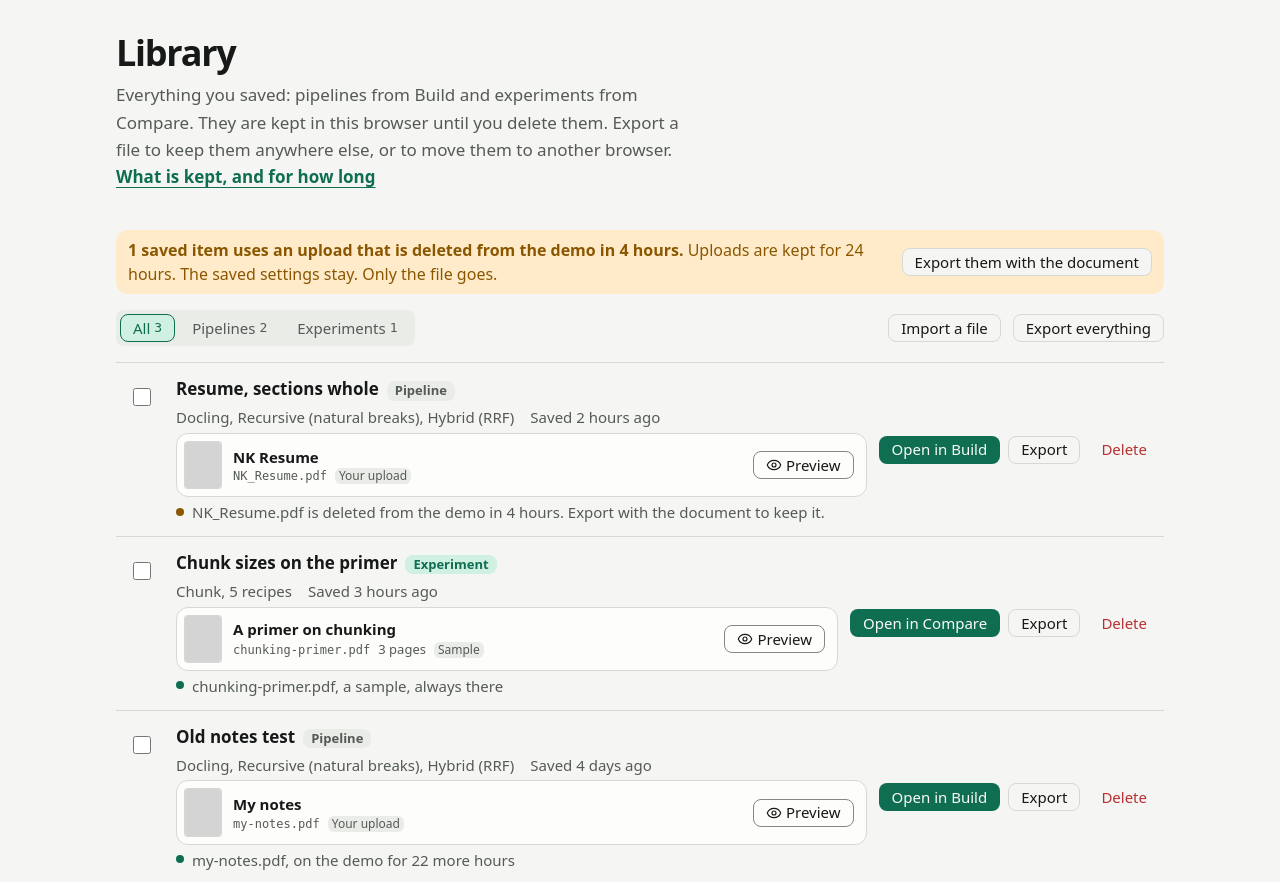
it: Library › says Without them when several documents can go in the file
expect the text "deleted from the demo in" is shown: met, box 192,502 -> 825,522
What coordinates should you click on to do the following:
click the button "Export everything"
I would click on:
 (1088, 328)
Its box is 1013,314 -> 1164,342.
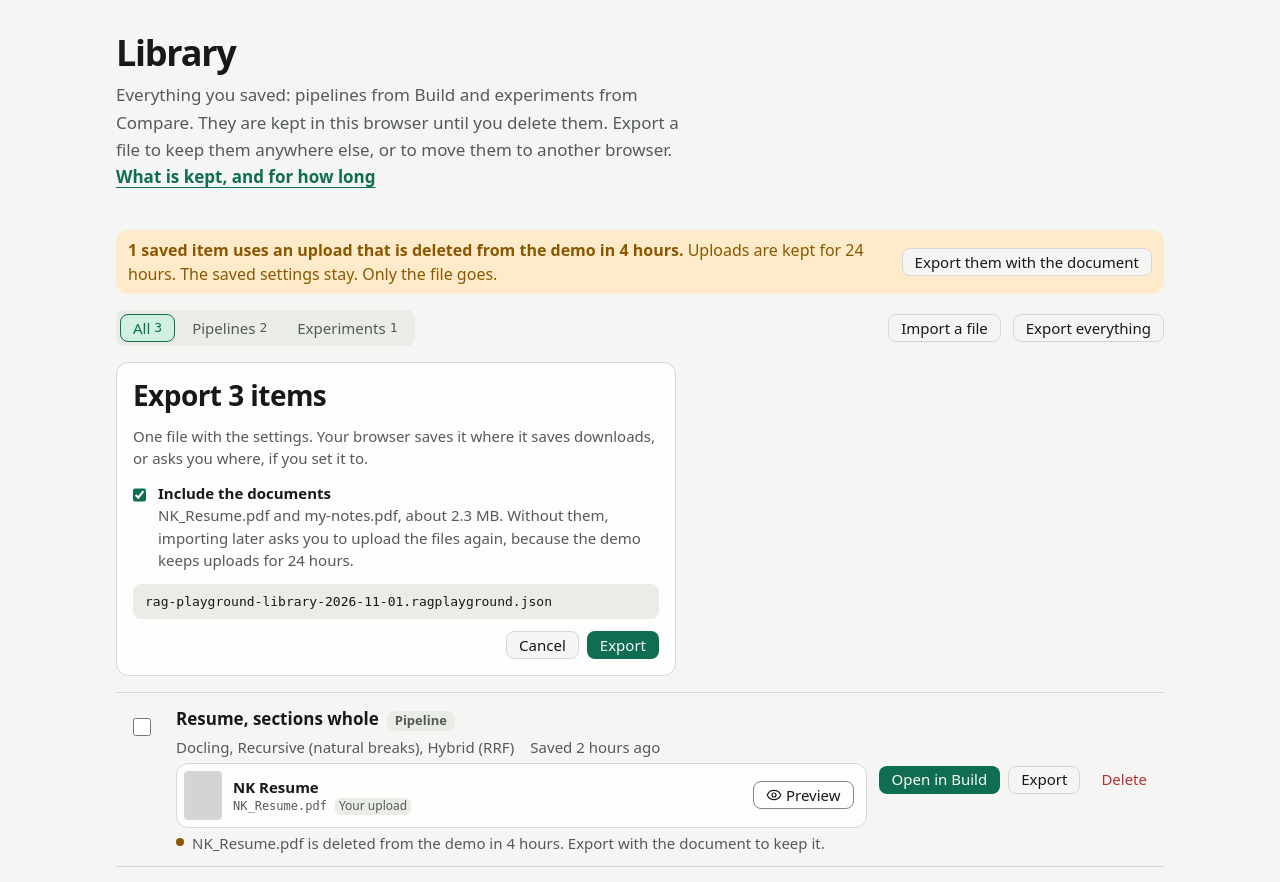
expect the checkbox labelled "Include the documents" is shown: met, box 133,486 -> 146,504
expect the dialog "Export" shows "Without them, importing later asks you to upload the files again": met, box 158,505 -> 641,570
